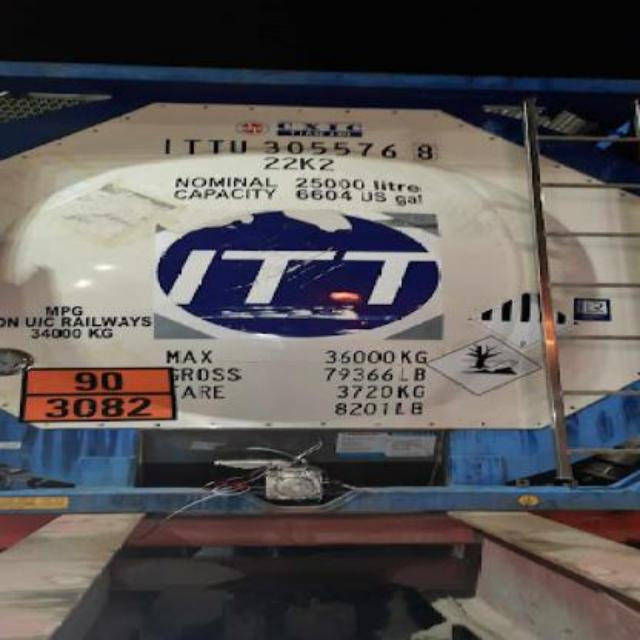0: (286, 140, 308, 152)
3: (260, 138, 284, 154)
5: (308, 138, 332, 156), (332, 138, 353, 156)
6: (380, 142, 404, 160)
7: (356, 140, 380, 158)
8: (414, 142, 438, 160)
I: (161, 136, 177, 156)
T: (180, 136, 204, 156), (204, 137, 226, 153)
U: (228, 136, 252, 154)
